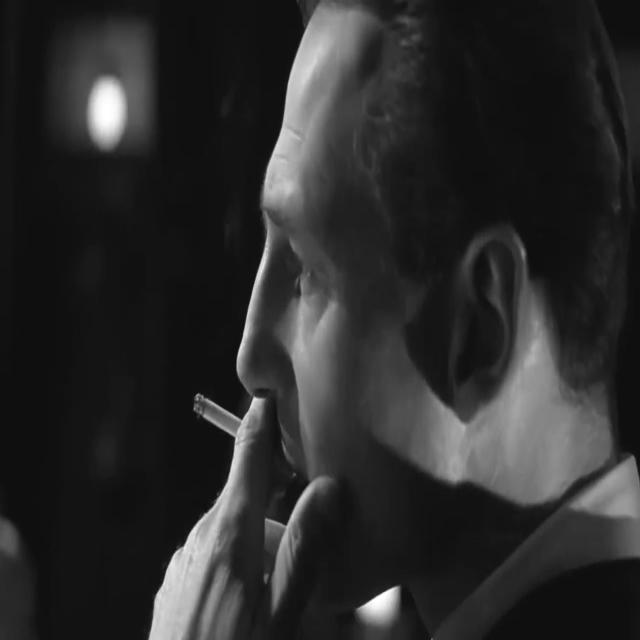Smooking: (189, 387, 239, 439)
